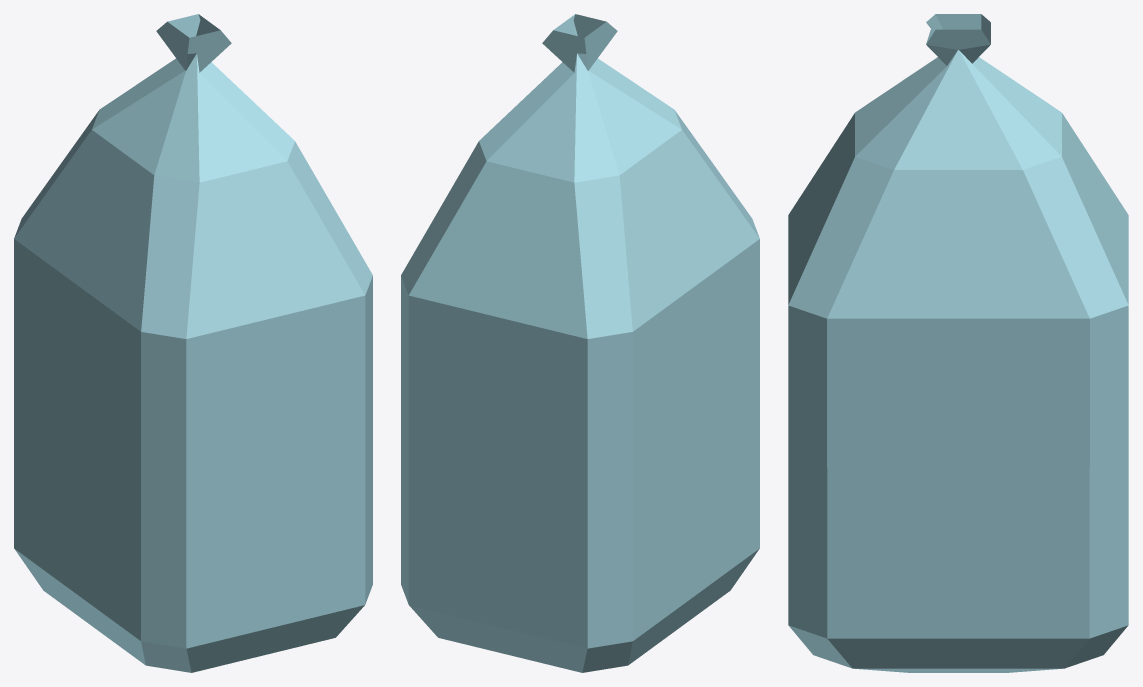
File: TestSac.fbx
The picture shows the model from 3 angles, left to right: view 1: azimuth 30°, elevation 25°; view 2: azimuth 150°, elevation 25°; view 3: azimuth 270°, elevation 25°; orthographic projection. The views are drawn at different scales.
Visible parts, largest first — view 1: Cube; view 2: Cube; view 3: Cube.
Part boxes in pixels (x1,y1,x2,y2): Cube: (14,14,372,672); Cube: (401,14,759,672); Cube: (788,14,1128,672).
Size of the model in its own units: 156 by 388 by 193.
